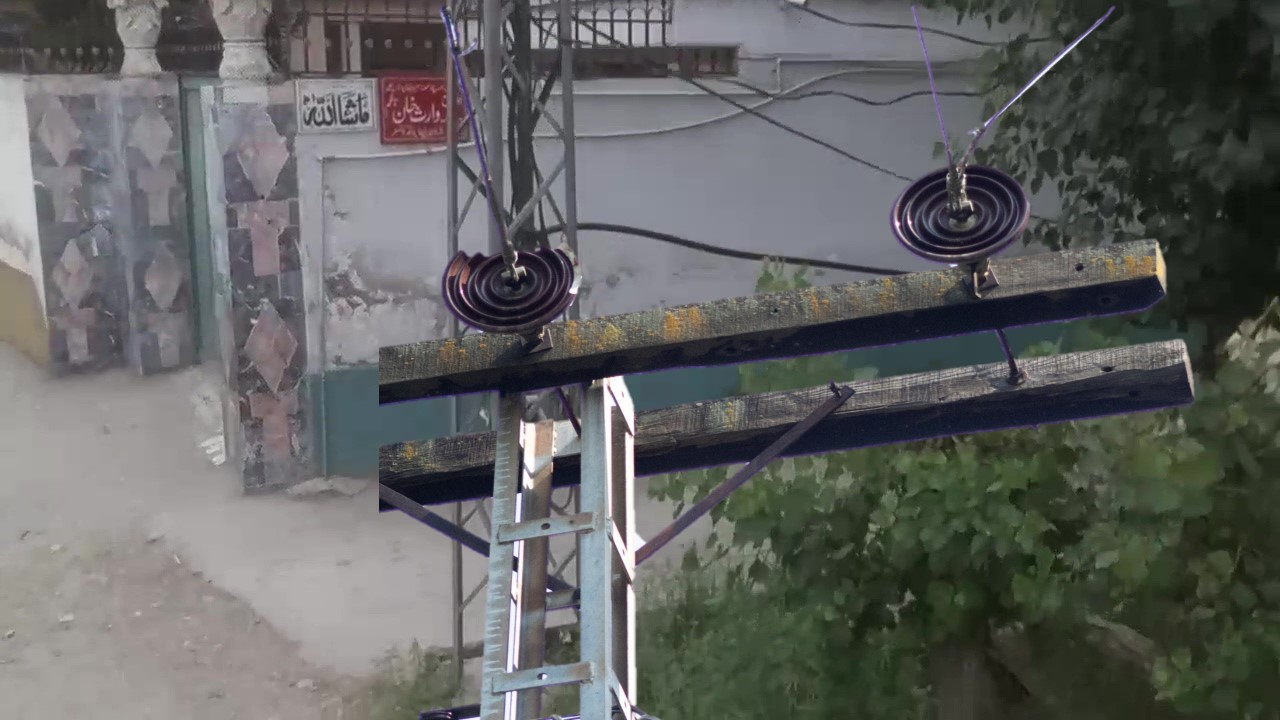defect_disc: (440, 242, 588, 333)
insulator_disc: (886, 160, 1036, 270)
